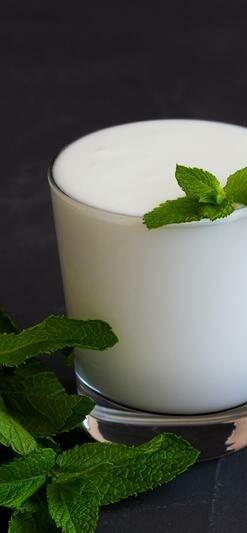Lassi: (54, 119, 247, 414)
